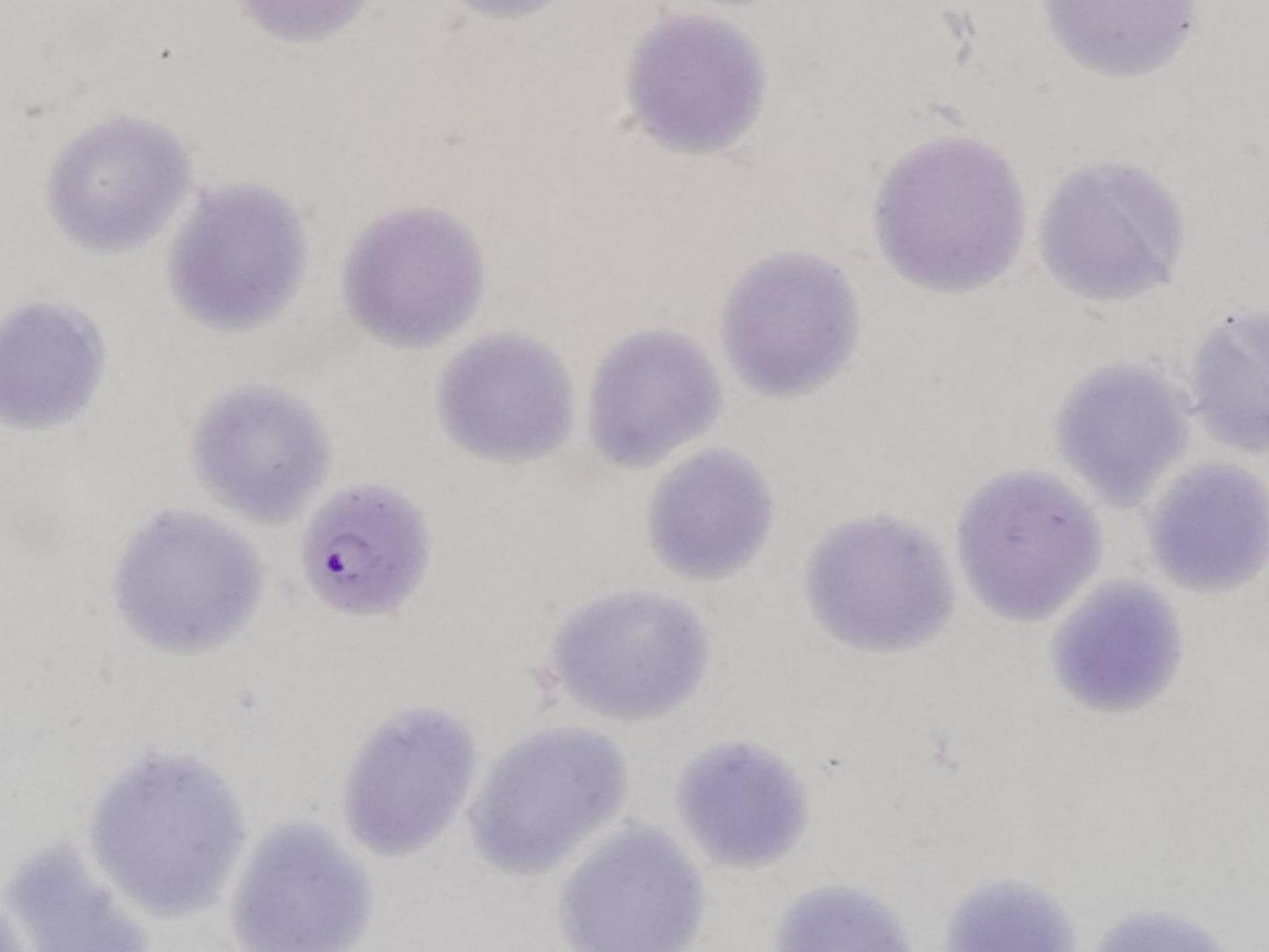Infected: (302, 486, 426, 616)
Uninfected: (876, 136, 1022, 290), (94, 753, 237, 908), (478, 729, 629, 867), (960, 474, 1100, 618), (121, 511, 260, 656), (344, 203, 482, 348), (1058, 364, 1194, 508), (342, 706, 474, 852), (1041, 165, 1181, 302), (172, 191, 306, 331), (725, 257, 858, 398), (48, 114, 185, 250), (811, 519, 955, 648), (625, 18, 763, 152), (190, 390, 321, 526), (562, 598, 709, 719), (592, 333, 724, 467), (567, 823, 703, 952), (438, 331, 570, 463), (236, 823, 370, 948), (1054, 583, 1180, 711), (1148, 459, 1265, 590), (679, 740, 804, 862), (650, 451, 767, 577), (0, 301, 101, 429)
